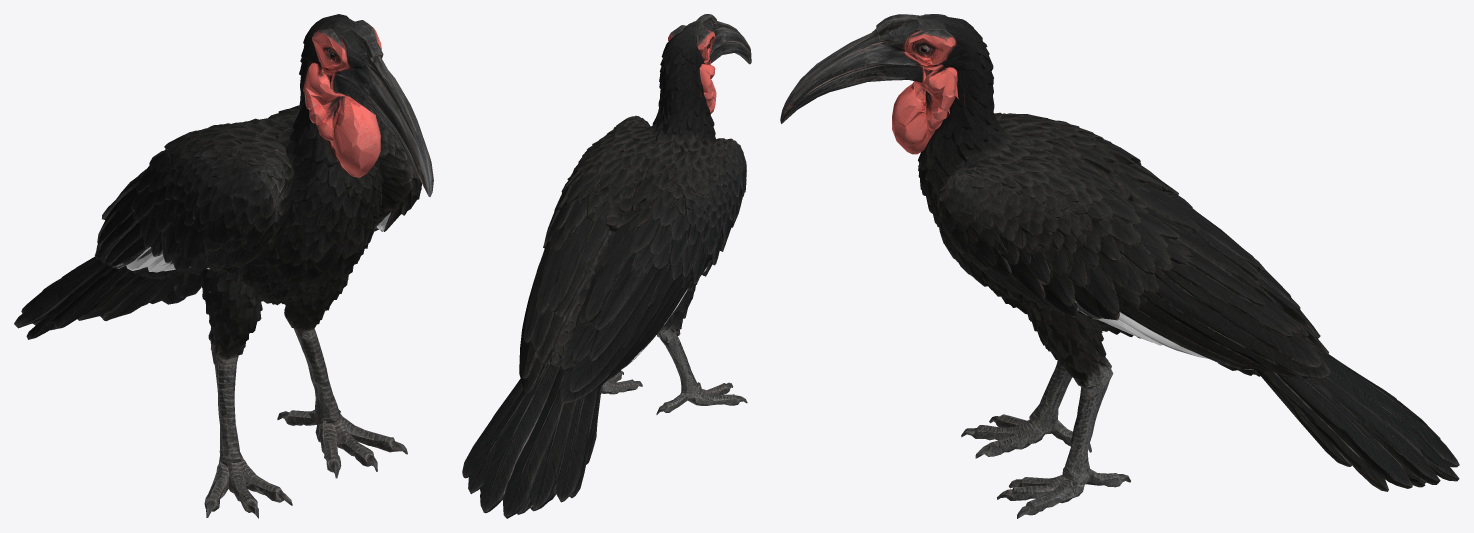
The model's file is southern-ground-hornbill.glb.
3 renders of one model, left to right at view 1: azimuth 30°, elevation 25°; view 2: azimuth 150°, elevation 25°; view 3: azimuth 270°, elevation 25°, orthographic. The views are drawn at different scales.
Bounding box in the file's own units: 0.6498 × 1.42 × 1.9.
Materials: 1 (1 with a texture image).
